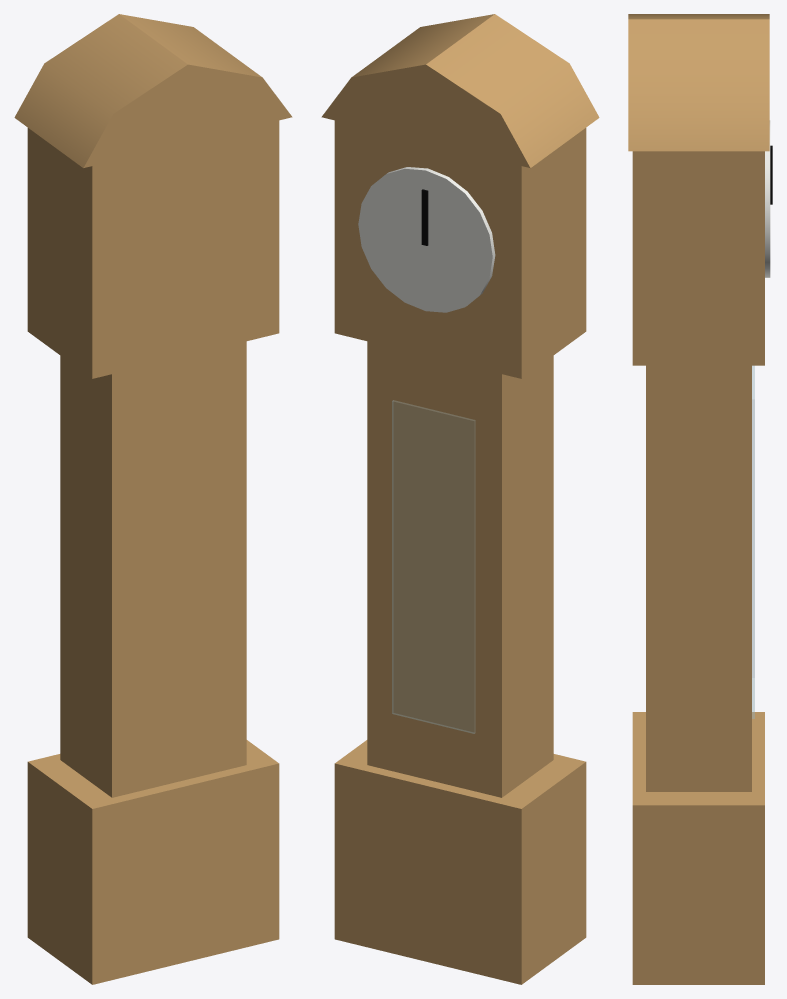
File: home.mansion.grandfather_clock.glb
3 views of the same model, side by side, from view 1: azimuth 30°, elevation 25°; view 2: azimuth 150°, elevation 25°; view 3: azimuth 270°, elevation 25° (orthographic). The views are drawn at different scales.
Parts seen in each view (by area): view 1: main__glulam; view 2: main__glulam, main__glass, main__paint_white; view 3: main__glulam, main__glass, main__paint_white.
Boxes of the visible parts, bbox=[...] form: main__glulam: bbox=[14, 14, 292, 984]; main__glulam: bbox=[321, 14, 599, 984]; main__glass: bbox=[392, 400, 475, 733]; main__paint_white: bbox=[358, 167, 495, 312]; main__glulam: bbox=[628, 14, 769, 984]; main__glass: bbox=[752, 366, 754, 718]; main__paint_white: bbox=[765, 120, 770, 277].
Bounding box in the file's own units: 0.56 × 2.3 × 0.327.
